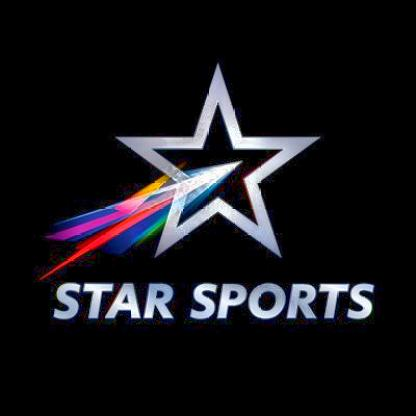Star Sports: (61, 52, 378, 322)
